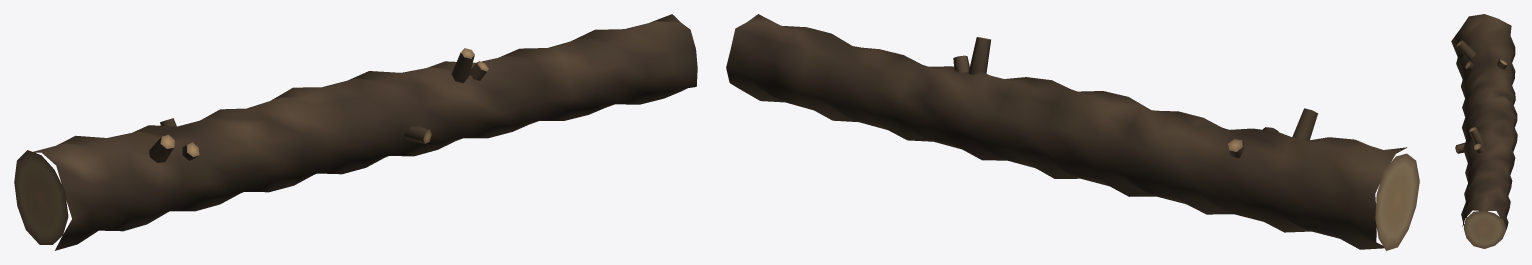
File: log-fresh-a.lod0.glb
The picture shows the model from 3 angles, left to right: view 1: azimuth 30°, elevation 25°; view 2: azimuth 150°, elevation 25°; view 3: azimuth 270°, elevation 25°; orthographic projection. The views are drawn at different scales.
Size of the model in its own units: 4.1 by 0.6288 by 0.629.
